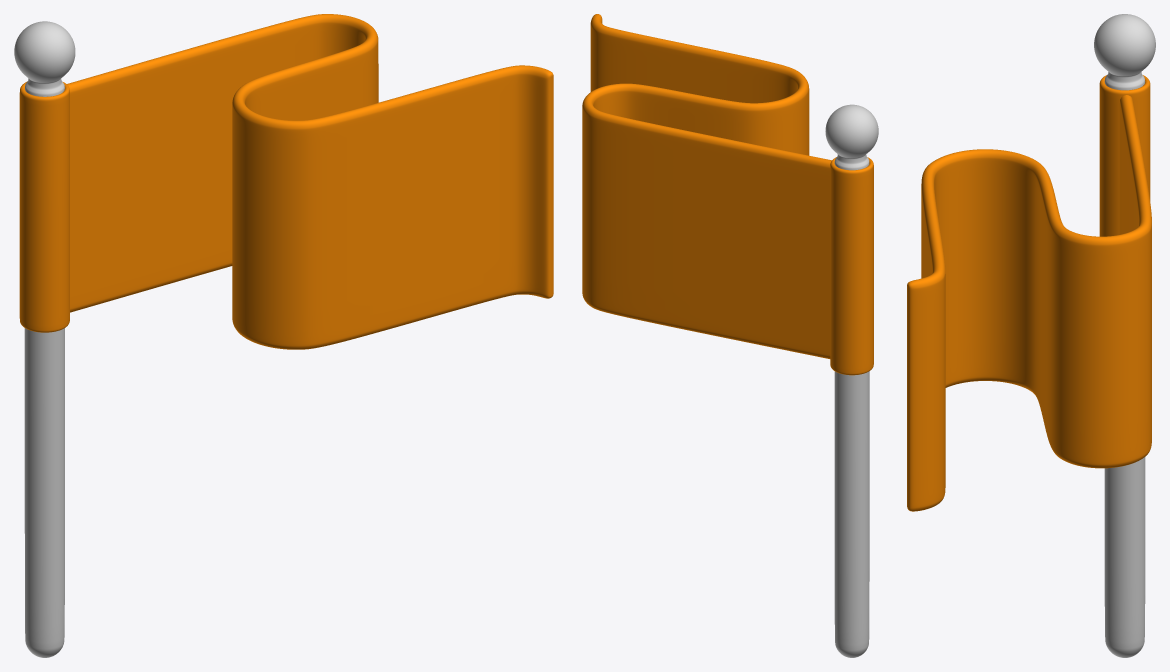
File: flag.glb
3 renders of one model, left to right at view 1: azimuth 30°, elevation 25°; view 2: azimuth 150°, elevation 25°; view 3: azimuth 270°, elevation 25°, orthographic. The views are drawn at different scales.
Visible parts, largest first — view 1: Cylinder.005; view 2: Cylinder.005; view 3: Cylinder.005.
Part boxes in pixels (x1=…): Cylinder.005: x1=14, y1=14, x2=553, y2=657; Cylinder.005: x1=582, y1=14, x2=878, y2=657; Cylinder.005: x1=907, y1=14, x2=1155, y2=657.
Size of the model in its own units: 1.36 by 1.91 by 0.6732.
